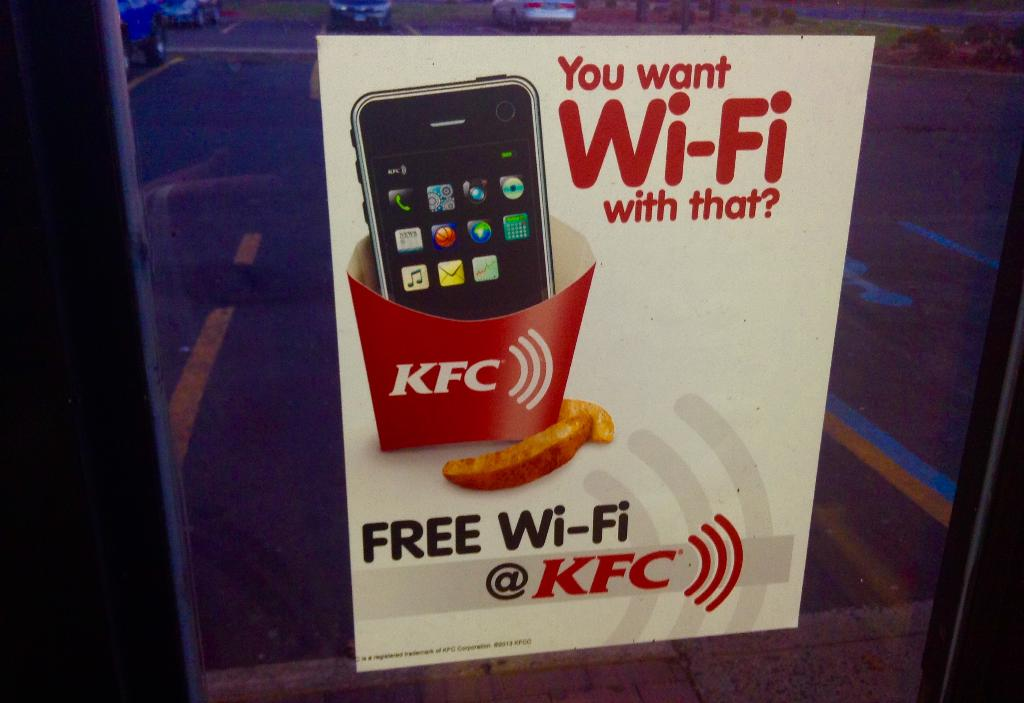Mobile-phone: (349, 75, 556, 377)
